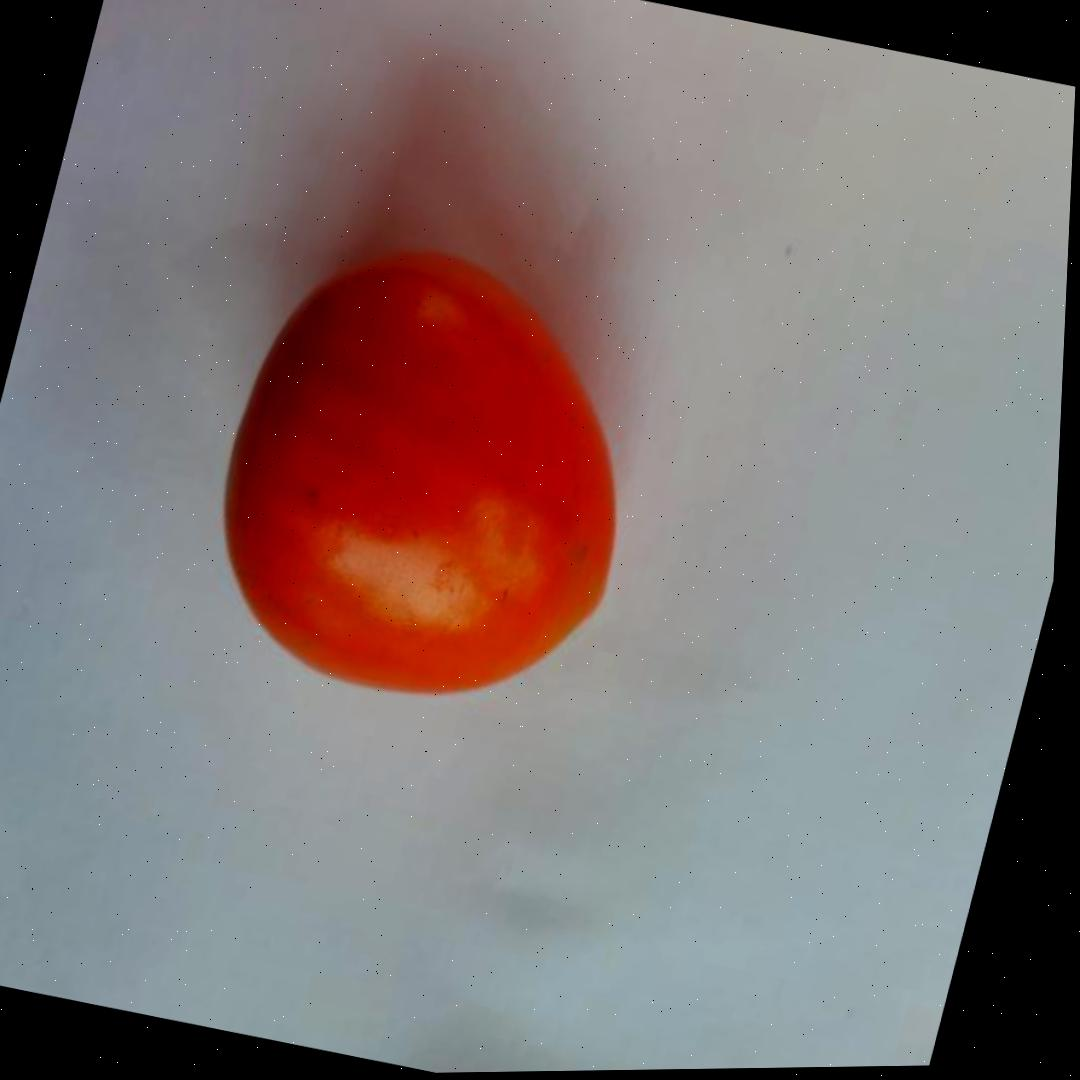setengah_matang: (169, 209, 687, 742)
